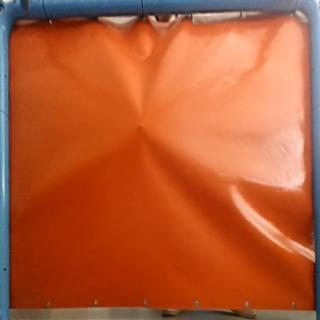Hit-hRxx: (132, 120, 150, 134)
